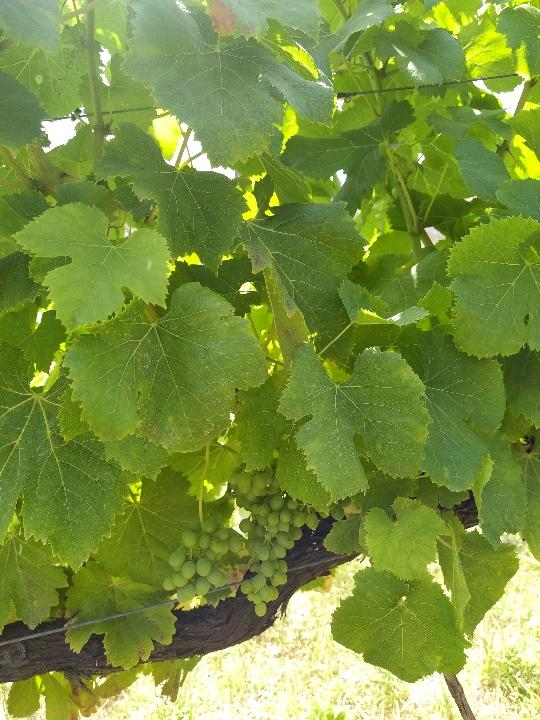grape: (157, 464, 327, 619)
